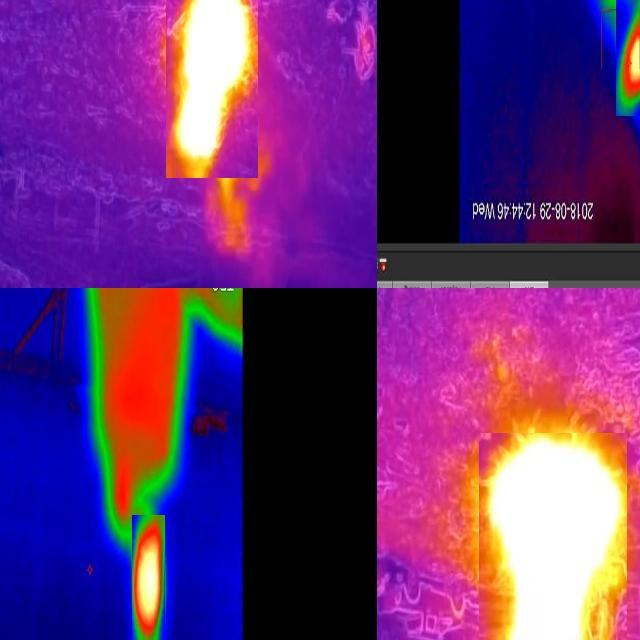fire: (479, 433, 627, 640), (166, 1, 258, 178), (132, 515, 165, 640), (616, 1, 640, 116)
